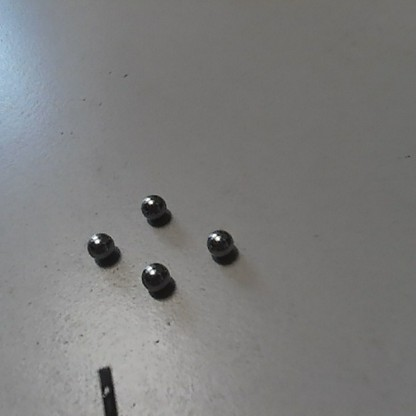ironball: (140, 261, 169, 293), (206, 228, 234, 255), (86, 232, 114, 257), (141, 195, 166, 217)
